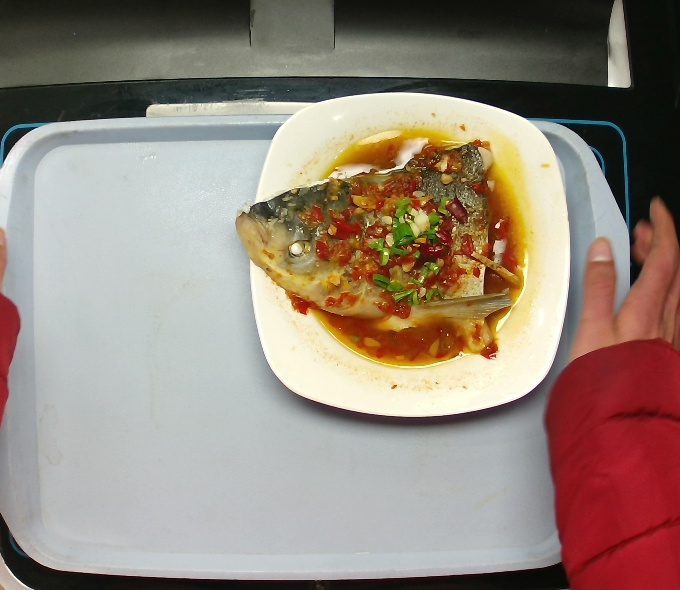wcq-DuoJiaoYuTou: (235, 132, 529, 366)
